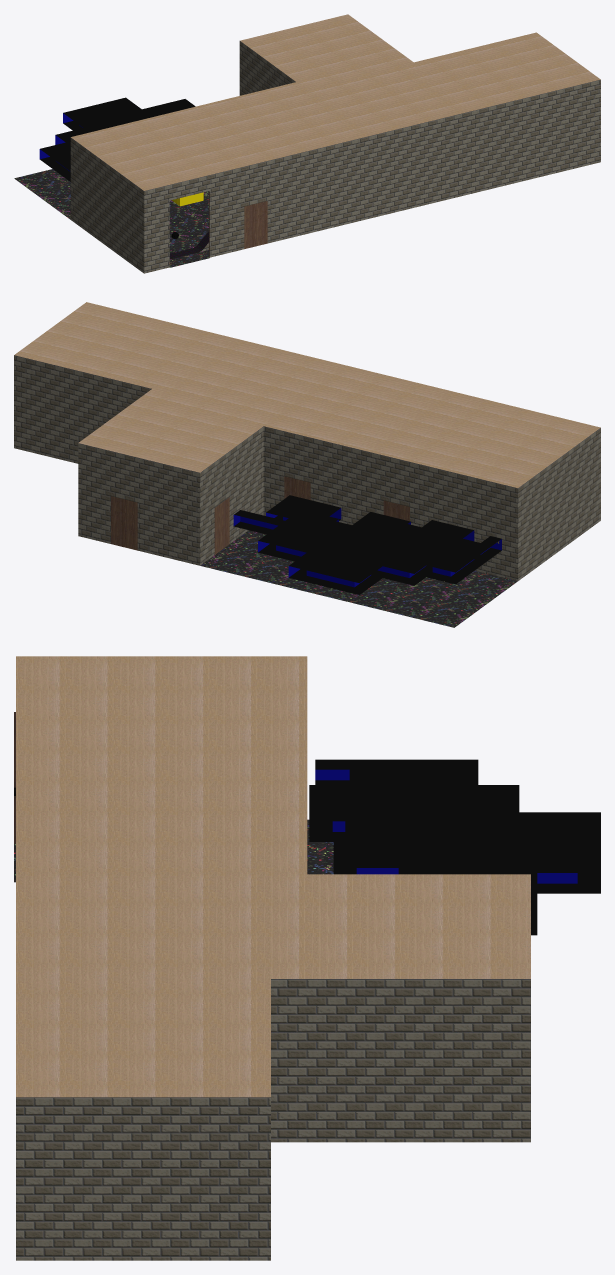
3 views of the same model, one above another, from view 1: azimuth 30°, elevation 25°; view 2: azimuth 150°, elevation 25°; view 3: azimuth 270°, elevation 25° (orthographic). The views are drawn at different scales.
Parts seen in each view (by area): view 1: Untitled-SKP--t_renga_C06k, Untitled-SKP--Wood2, Untitled-SKP--Carpet, Untitled-SKP--black, Untitled-SKP--Wood; view 2: Untitled-SKP--Wood2, Untitled-SKP--t_renga_C06k, Untitled-SKP--black, Untitled-SKP--Carpet, Untitled-SKP--Wood, Untitled-SKP--Blue; view 3: Untitled-SKP--Wood2, Untitled-SKP--t_renga_C06k, Untitled-SKP--black, Untitled-SKP--Blue, Untitled-SKP--Carpet.
Boxes of the visible parts, left/top/right/bottom form: Untitled-SKP--t_renga_C06k: left=70, top=41, right=600, bottom=273; Untitled-SKP--Wood2: left=71, top=14, right=600, bottom=190; Untitled-SKP--Carpet: left=14, top=169, right=208, bottom=267; Untitled-SKP--black: left=40, top=97, right=195, bottom=239; Untitled-SKP--Wood: left=244, top=91, right=267, bottom=248; Untitled-SKP--Wood2: left=14, top=302, right=600, bottom=488; Untitled-SKP--t_renga_C06k: left=14, top=355, right=600, bottom=580; Untitled-SKP--black: left=234, top=495, right=501, bottom=594; Untitled-SKP--Carpet: left=200, top=526, right=592, bottom=627; Untitled-SKP--Wood: left=111, top=476, right=409, bottom=565; Untitled-SKP--Blue: left=233, top=508, right=501, bottom=587; Untitled-SKP--Wood2: left=16, top=656, right=530, bottom=1097; Untitled-SKP--t_renga_C06k: left=16, top=979, right=530, bottom=1260; Untitled-SKP--black: left=14, top=759, right=600, bottom=935; Untitled-SKP--Blue: left=315, top=769, right=577, bottom=883; Untitled-SKP--Carpet: left=14, top=819, right=333, bottom=882.
Bounding box in the file's own units: 161256 × 27981 × 90713.
Materials: 16 (16 with a texture image).
